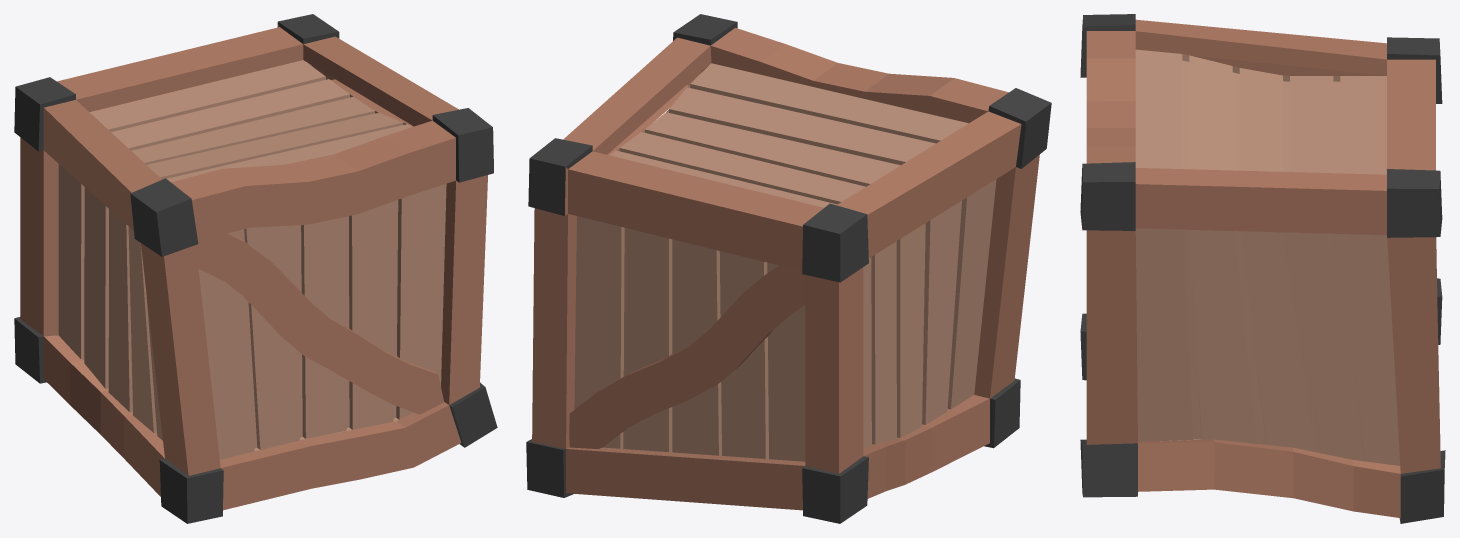
Rendered from deformed_wooden_crate.fbx.
The picture shows the model from 3 angles, left to right: view 1: azimuth 30°, elevation 25°; view 2: azimuth 150°, elevation 25°; view 3: azimuth 270°, elevation 25°; orthographic projection. The views are drawn at different scales.
Visible parts, largest first — view 1: Cube.004, Cube.005, Cube.006; view 2: Cube.004, Cube.005, Cube.007; view 3: Cube.004, Cube.005.
Boxes of the visible parts, left/top/right/bottom form: Cube.004: left=14, top=14, right=497, bottom=523; Cube.005: left=58, top=60, right=446, bottom=459; Cube.006: left=196, top=233, right=443, bottom=414; Cube.004: left=526, top=14, right=1051, bottom=523; Cube.005: left=574, top=63, right=996, bottom=461; Cube.007: left=569, top=265, right=805, bottom=449; Cube.004: left=1080, top=14, right=1445, bottom=523; Cube.005: left=1135, top=49, right=1400, bottom=465.
Size of the model in its own units: 235 by 221 by 209.
